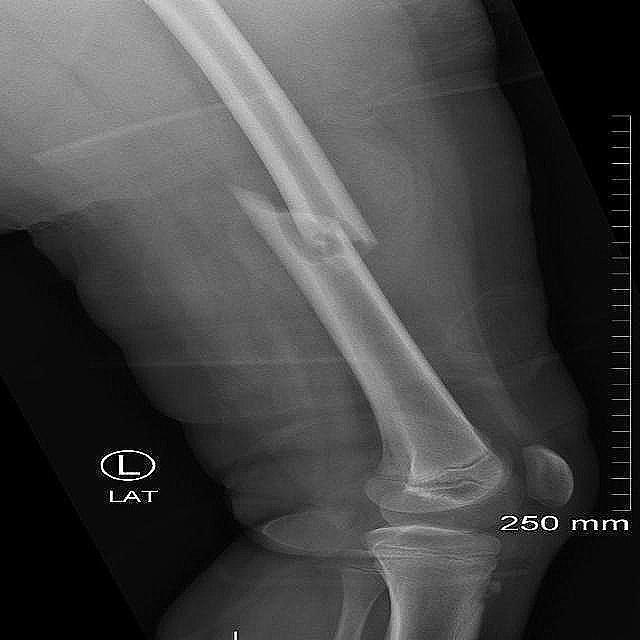bone: (222, 162, 412, 286)
